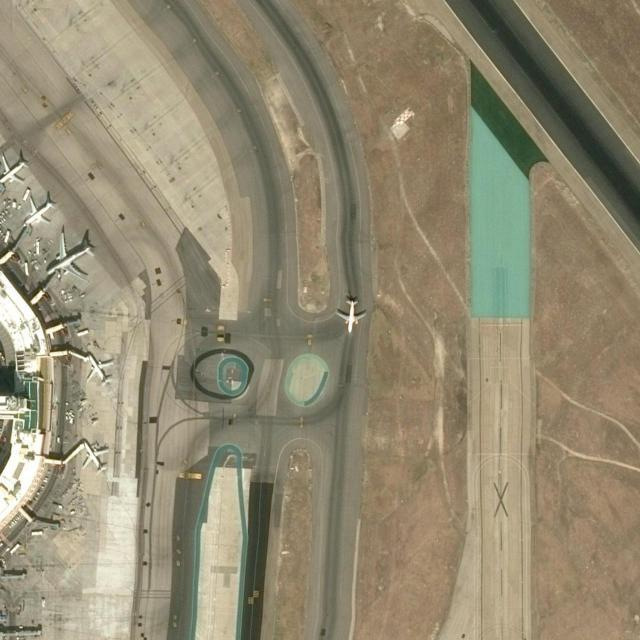Aircraft: (46, 229, 95, 281), (20, 192, 56, 229), (336, 295, 369, 333), (86, 350, 116, 388), (80, 440, 110, 475), (0, 153, 30, 184)
